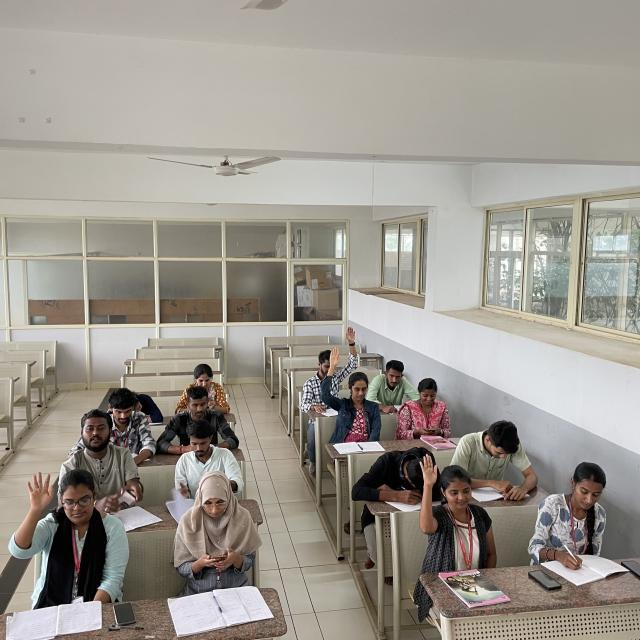Hand Rising: (11, 461, 120, 602), (409, 454, 500, 567), (313, 348, 391, 438), (293, 316, 359, 402)
Reading: (164, 424, 255, 516), (451, 423, 547, 506), (91, 402, 162, 459)
Sleeping: (360, 448, 447, 518), (102, 382, 173, 422)
Using Phone: (172, 475, 274, 587), (54, 412, 162, 506), (168, 362, 248, 416), (401, 385, 464, 438)
Writing: (543, 460, 631, 580), (366, 349, 414, 414)
